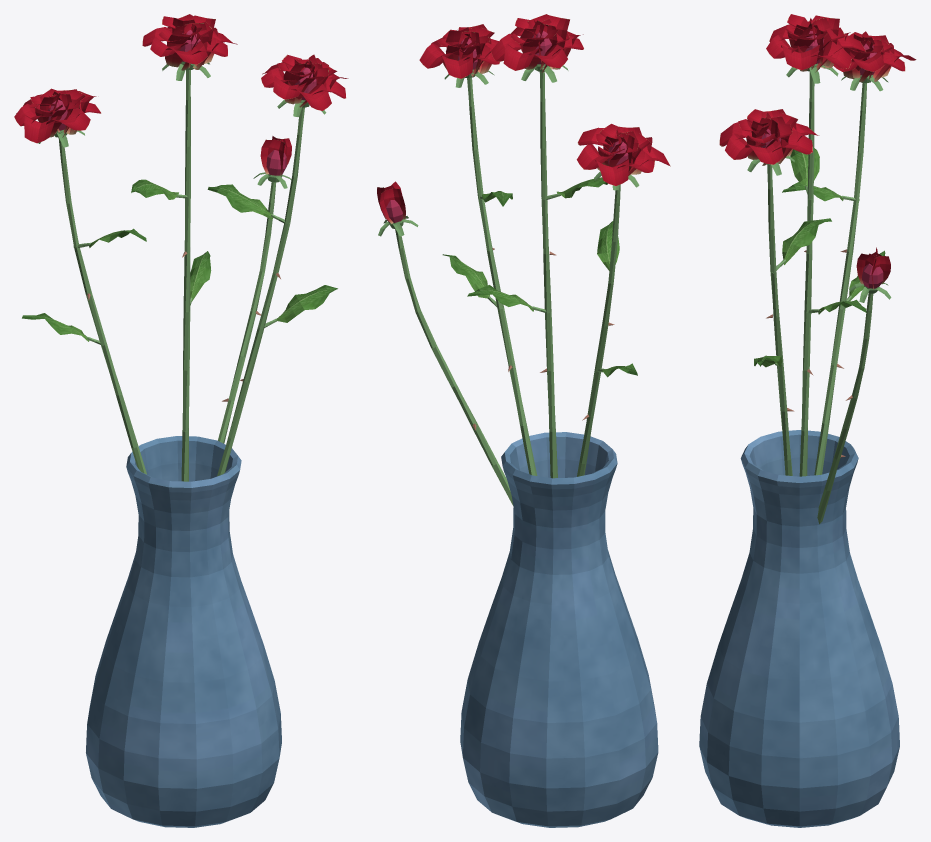
File: rose3.glb
3 views of the same model, side by side, from view 1: azimuth 30°, elevation 25°; view 2: azimuth 150°, elevation 25°; view 3: azimuth 270°, elevation 25° (orthographic).
Parts seen in each view (by area): view 1: Vase, Stem1, Stem3, Stem2, Stem4, Leaf5, Leaf6, Leaf1, Rose1Out1; view 2: Vase, Stem1, Stem3, Stem2, Stem4, Leaf5, Leaf4, Rose2Out6, Rose1Out5, Leaf1; view 3: Vase, Stem2, Stem1, Stem3, Stem4, Leaf6, Leaf2, Rose1Out3, Rose3Out4, Rose1Out4, Rose3Out3, Rose3Out5 (+4 smaller).
Part boxes in pixels (x1,y1,x2,y2): Vase: (86,436,281,827); Stem1: (181,70,190,481); Stem3: (217,107,304,476); Stem2: (58,138,146,474); Stem4: (218,182,276,443); Leaf5: (276,285,337,322); Leaf6: (207,184,272,219); Leaf1: (190,251,211,301); Rose1Out1: (165,41,207,67); Vase: (460,432,658,827); Stem1: (539,71,557,478); Stem3: (467,77,537,475); Stem2: (577,184,620,476); Stem4: (395,229,513,505); Leaf5: (442,254,489,298); Leaf4: (597,221,619,270); Rose2Out6: (595,159,628,185); Rose1Out5: (503,44,542,70); Leaf1: (467,285,533,311); Vase: (699,430,899,827); Stem2: (814,83,866,475); Stem1: (799,72,814,476); Stem3: (767,164,792,475); Stem4: (817,293,873,524); Leaf6: (782,218,831,264); Leaf2: (790,148,819,186); Rose1Out3: (781,44,819,70); Rose3Out4: (745,138,783,164); Rose1Out4: (800,41,852,71); Rose3Out3: (725,133,766,159); Rose3Out5: (762,130,812,165).
Size of the model in its own units: 0.2618 by 0.6866 by 0.1732.
8 materials, 3 textured.
